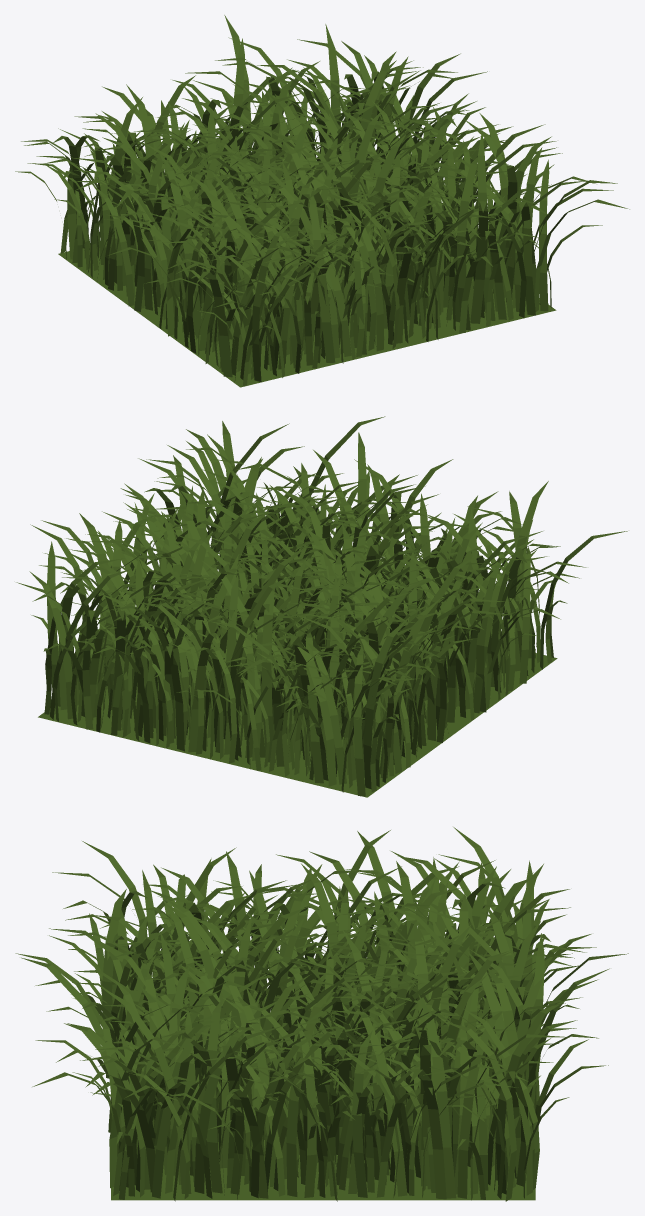
Rendered from Grass.fbx.
3 renders of one model, top to bottom at view 1: azimuth 30°, elevation 25°; view 2: azimuth 150°, elevation 25°; view 3: azimuth 270°, elevation 25°, orthographic. The views are drawn at different scales.
Visible parts, largest first — view 1: 3D学院 模型无限; view 2: 3D学院 模型无限; view 3: 3D学院 模型无限.
Part boxes in pixels (bbox=[...]): 3D学院 模型无限: bbox=[15, 15, 629, 387]; 3D学院 模型无限: bbox=[16, 416, 627, 797]; 3D学院 模型无限: bbox=[15, 827, 628, 1201].
Bounding box in the file's own units: 1.41 × 0.4922 × 1.45.
